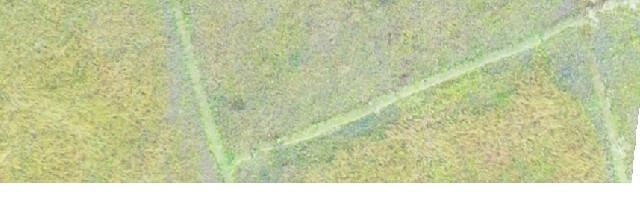tobacco: (168, 0, 625, 185)
